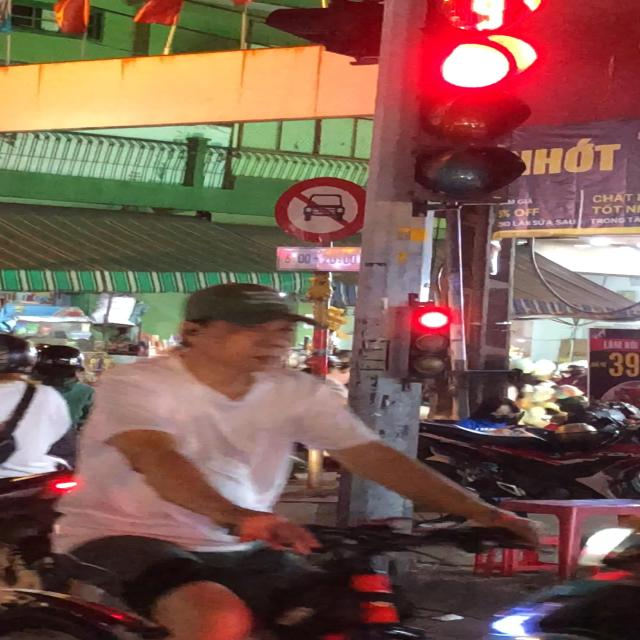Bien bao cam xe oto: (269, 175, 374, 245)
